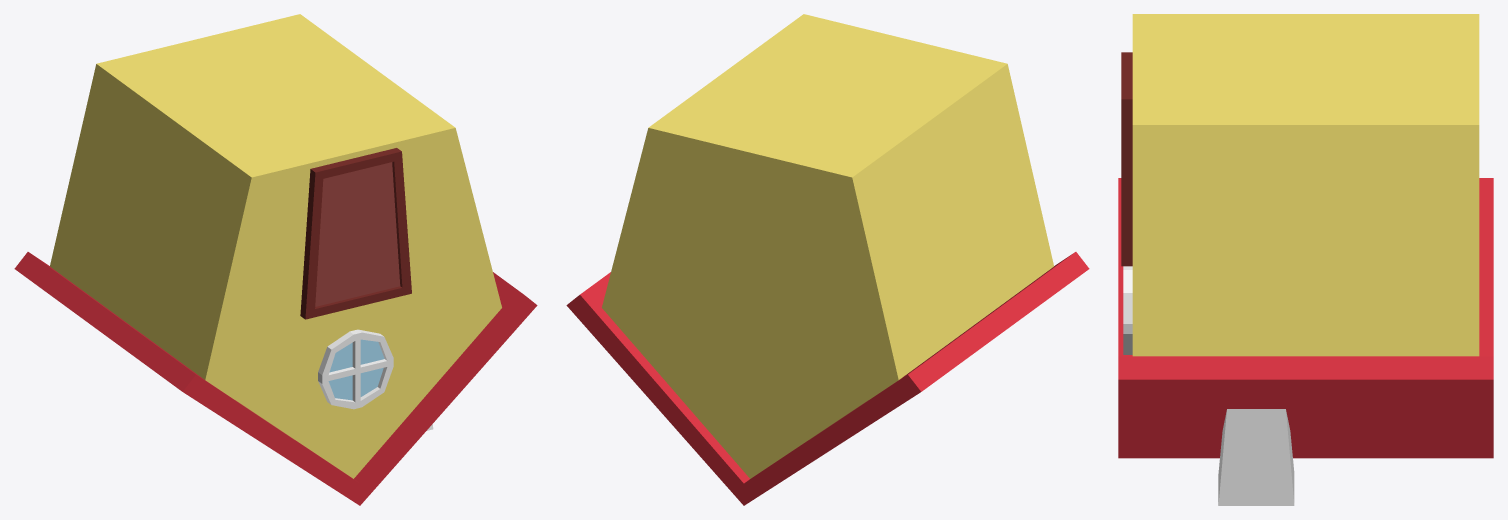
Rendered from house.fbx.
The picture shows the model from 3 angles, left to right: view 1: azimuth 30°, elevation 25°; view 2: azimuth 150°, elevation 25°; view 3: azimuth 270°, elevation 25°; orthographic projection. The views are drawn at different scales.
Parts seen in each view (by area): view 1: Cube.001; view 2: Cube.001; view 3: Cube.001.
Boxes of the visible parts, left/top/right/bottom form: Cube.001: left=14, top=14, right=537, bottom=505; Cube.001: left=566, top=14, right=1089, bottom=505; Cube.001: left=1118, top=14, right=1493, bottom=505.
Size of the model in its own units: 264 by 247 by 216.
